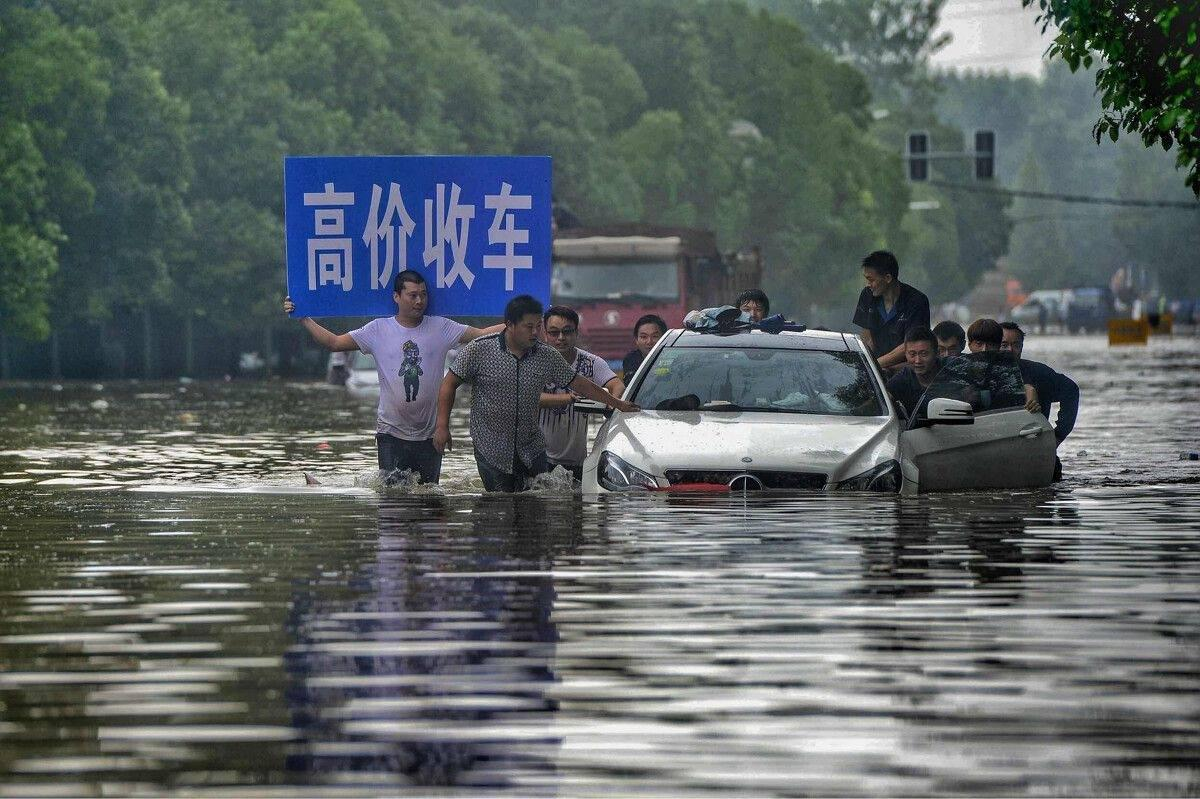water: (2, 333, 1199, 796)
